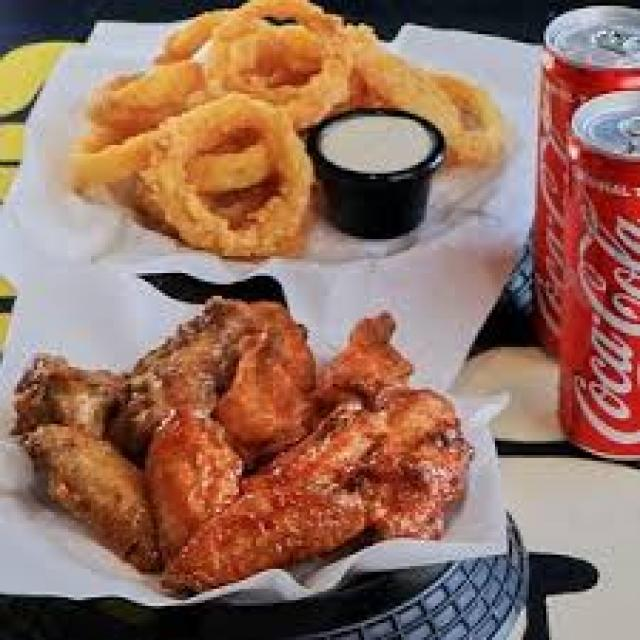Chicken Wings: (17, 287, 478, 592)
Onion Rings: (60, 3, 515, 259)
